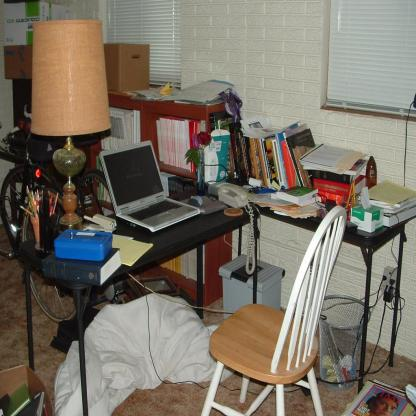board: (97, 140, 200, 233)
